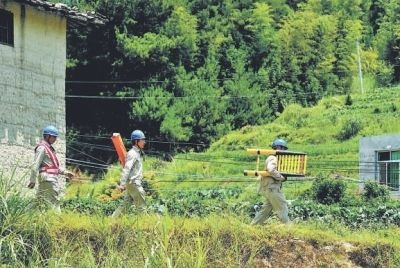blue: (129, 128, 146, 150), (42, 125, 59, 146), (272, 137, 288, 156)
